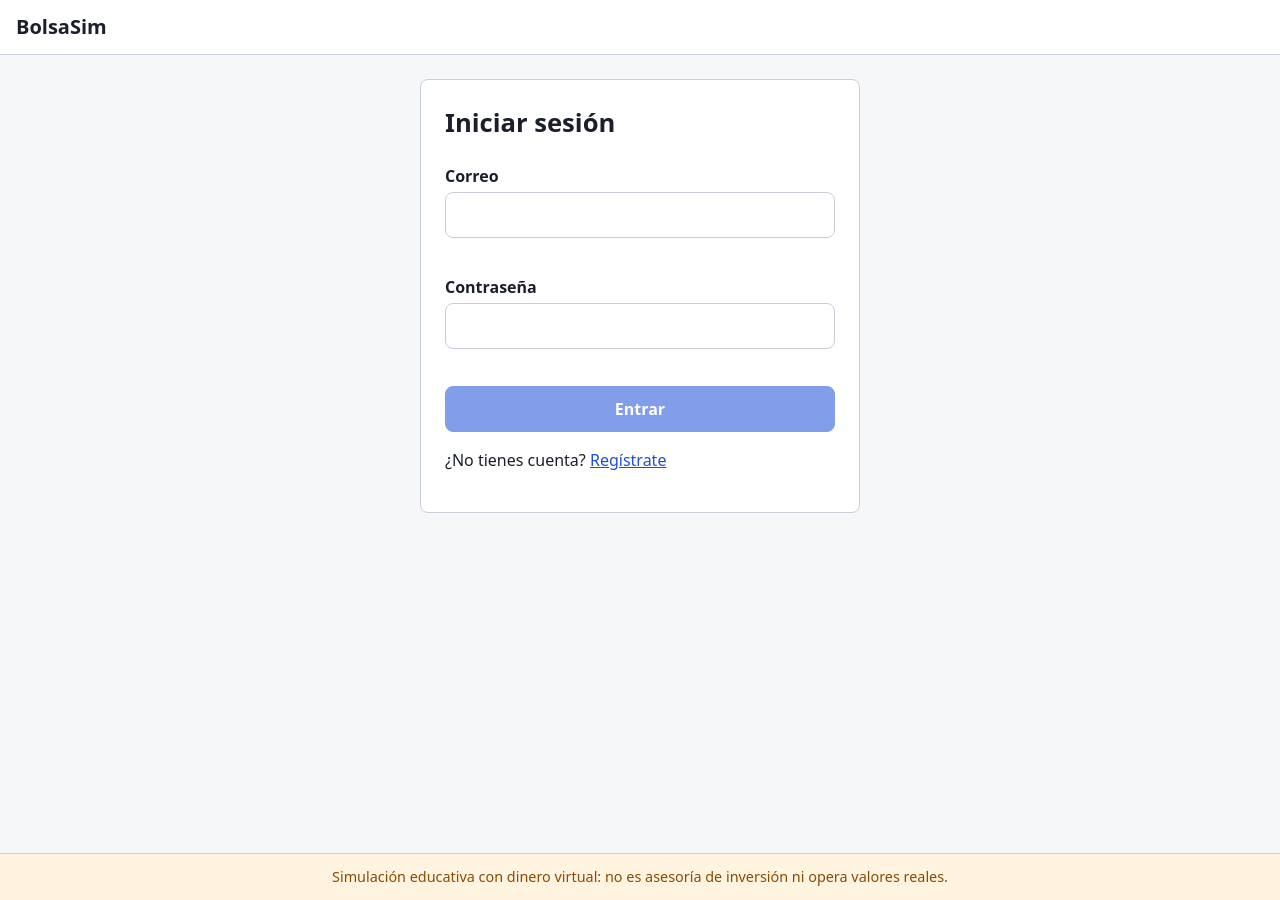
Test: Iniciar sesión (HU-02) › con credenciales correctas entra a Mercado y muestra su alias
The width and height of the screenshot is (1280, 900).
Type "ana@correo.co" into the field labelled "Correo".
click(640, 215); type("ana@correo.co")  # box [445,192,835,238]
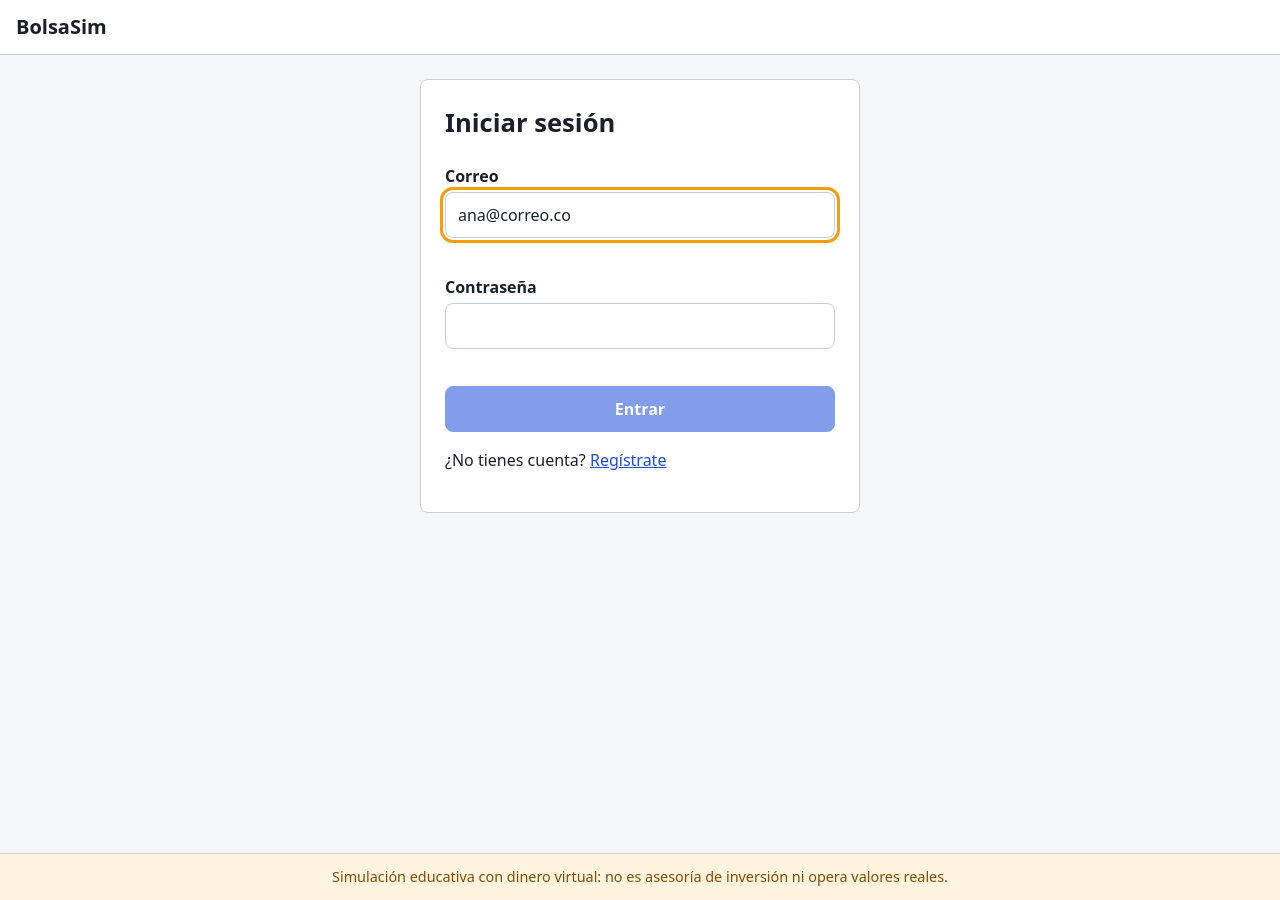
Type "secreta123" into the password field labelled "Contraseña".
click(640, 326); type("secreta123")  # box [445,303,835,349]
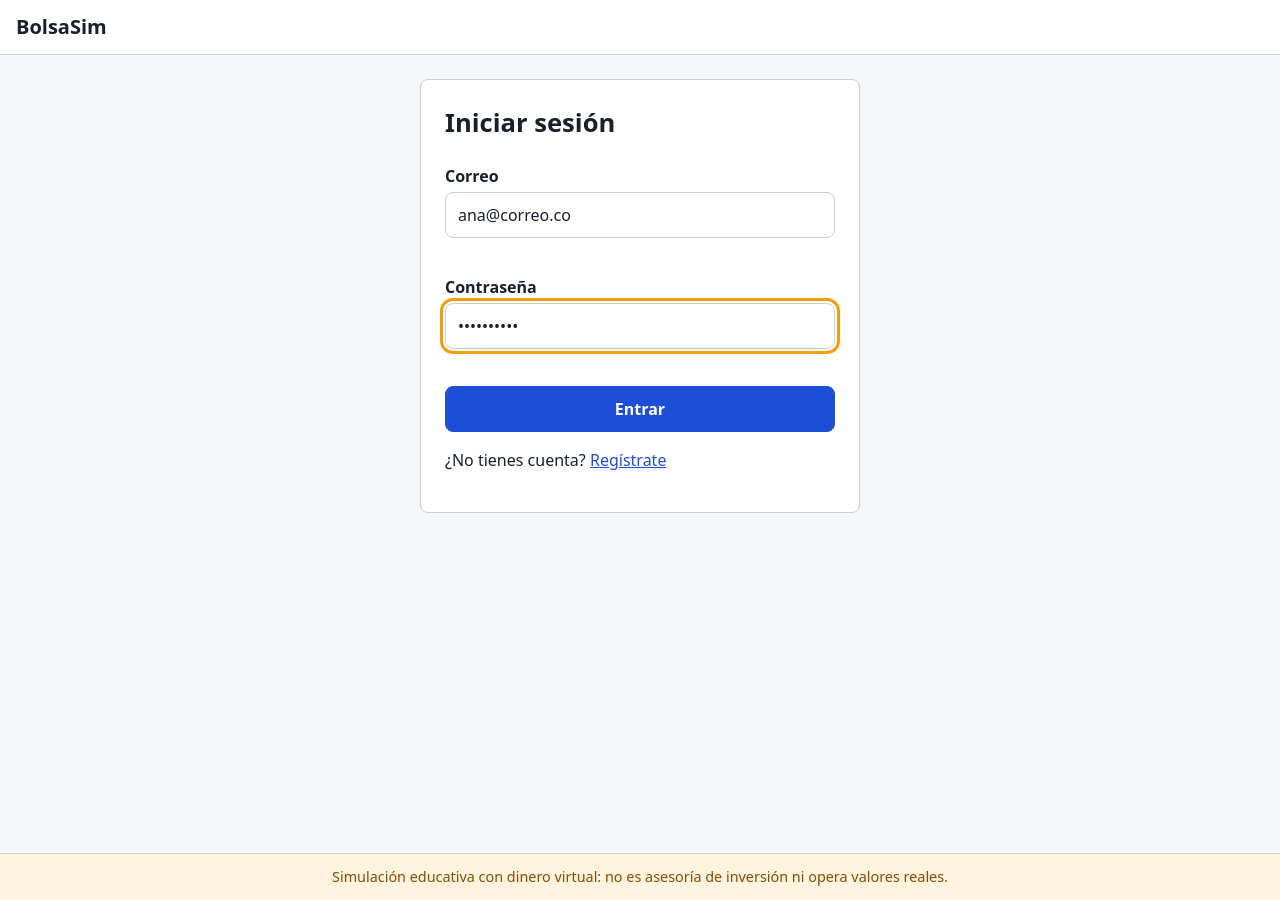
Click the button "Entrar".
click(640, 409)  # box [445,386,835,432]
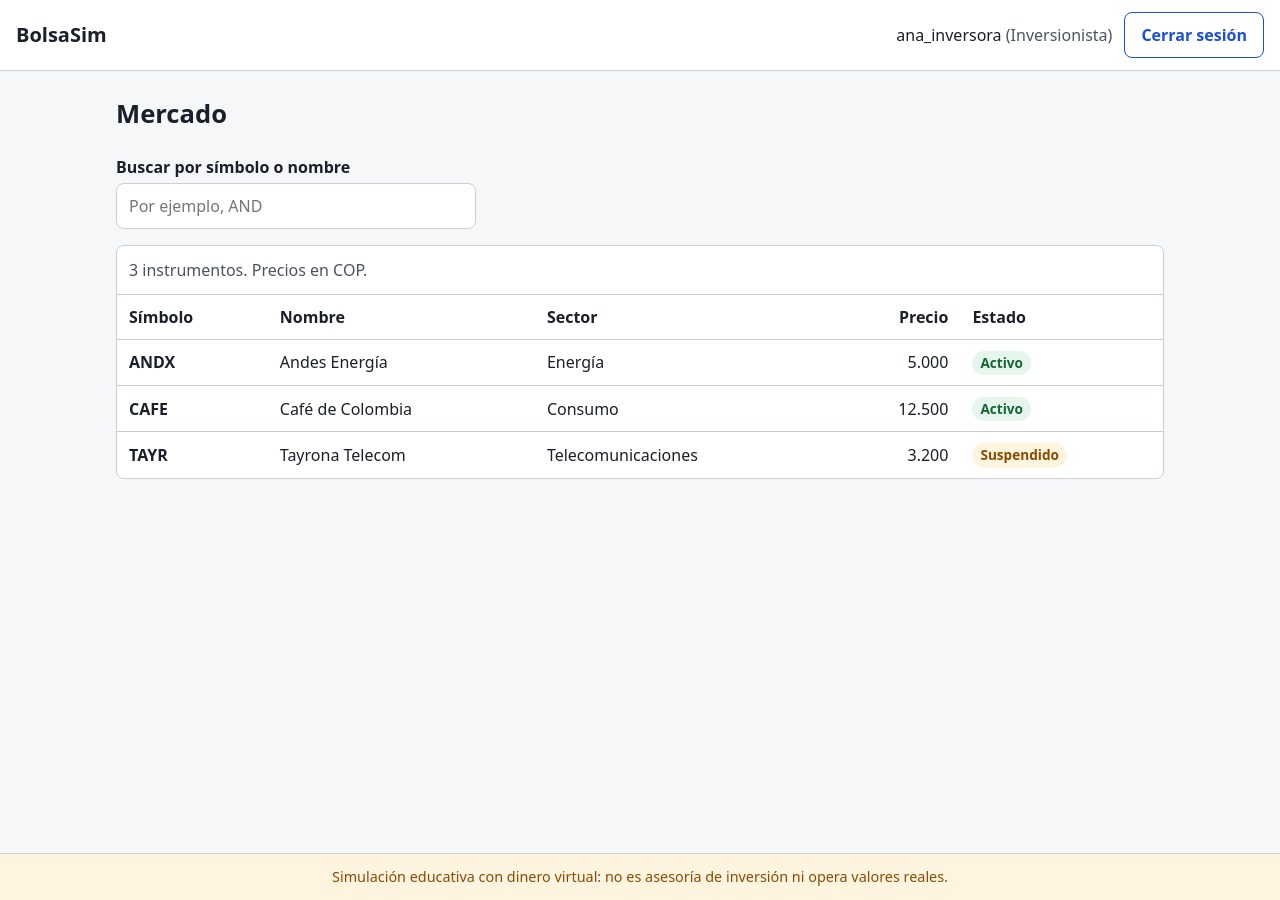
Result: the heading "Mercado" is shown at [116,96,227,131]
Result: the text "ana_inversora" is shown at [896,24,1002,46]
